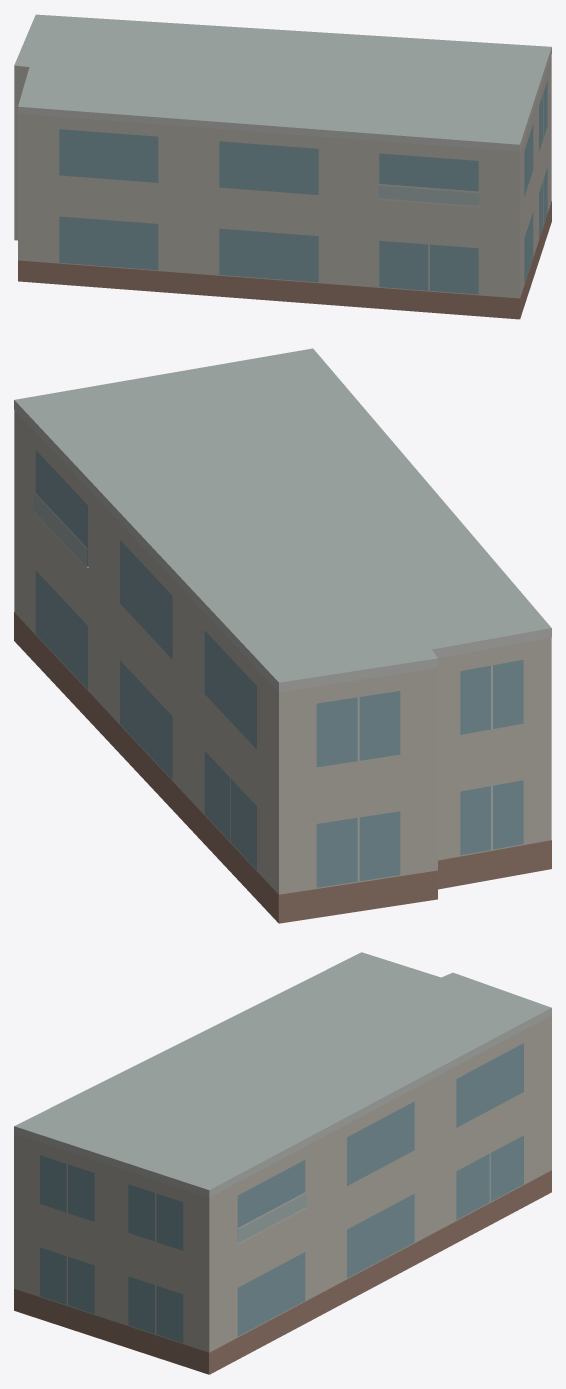
File: survey-upis-32867542.glb
3 views of the same model, one above another, from view 1: azimuth 30°, elevation 25°; view 2: azimuth 150°, elevation 25°; view 3: azimuth 270°, elevation 25° (orthographic). The views are drawn at different scales.
Visible parts, largest first — view 1: survey-upis-32867542.tmp; view 2: survey-upis-32867542.tmp; view 3: survey-upis-32867542.tmp.
Part boxes in pixels (x1,y1,x2,y2): survey-upis-32867542.tmp: (14,14,551,319); survey-upis-32867542.tmp: (14,348,551,923); survey-upis-32867542.tmp: (14,952,551,1374).
Bounding box in the file's own units: 16.89 × 6.1 × 16.12.
